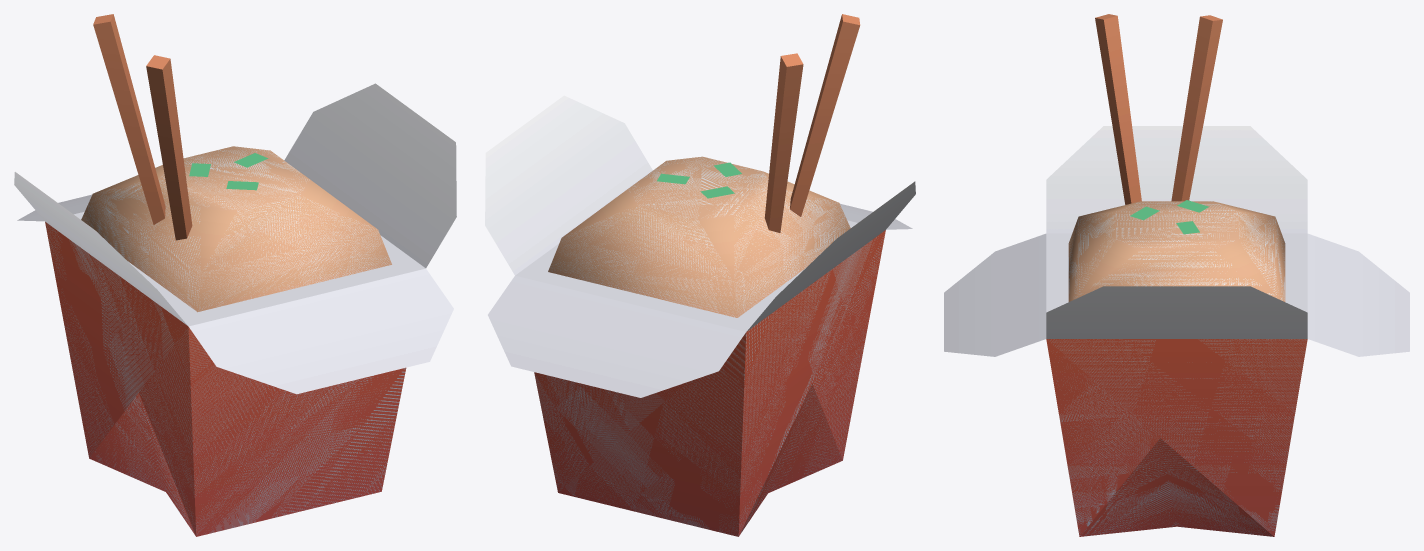
The model's file is food.chinese.glb.
3 views of the same model, side by side, from view 1: azimuth 30°, elevation 25°; view 2: azimuth 150°, elevation 25°; view 3: azimuth 270°, elevation 25° (orthographic). The views are drawn at different scales.
Parts seen in each view (by area): view 1: chinese, chopstick (×2); view 2: chinese, chopstick (×2); view 3: chinese, chopstick (×2).
Part boxes in pixels (<box>): chinese: <box>14,83,456,536</box>; chopstick (×2): <box>93,14,192,240</box>; chinese: <box>485,95,915,536</box>; chopstick (×2): <box>764,14,860,232</box>; chinese: <box>944,126,1409,536</box>; chopstick (×2): <box>1095,14,1222,204</box>.
Size of the model in its own units: 0.1348 by 0.1684 by 0.1656.
1 material, 1 textured.
